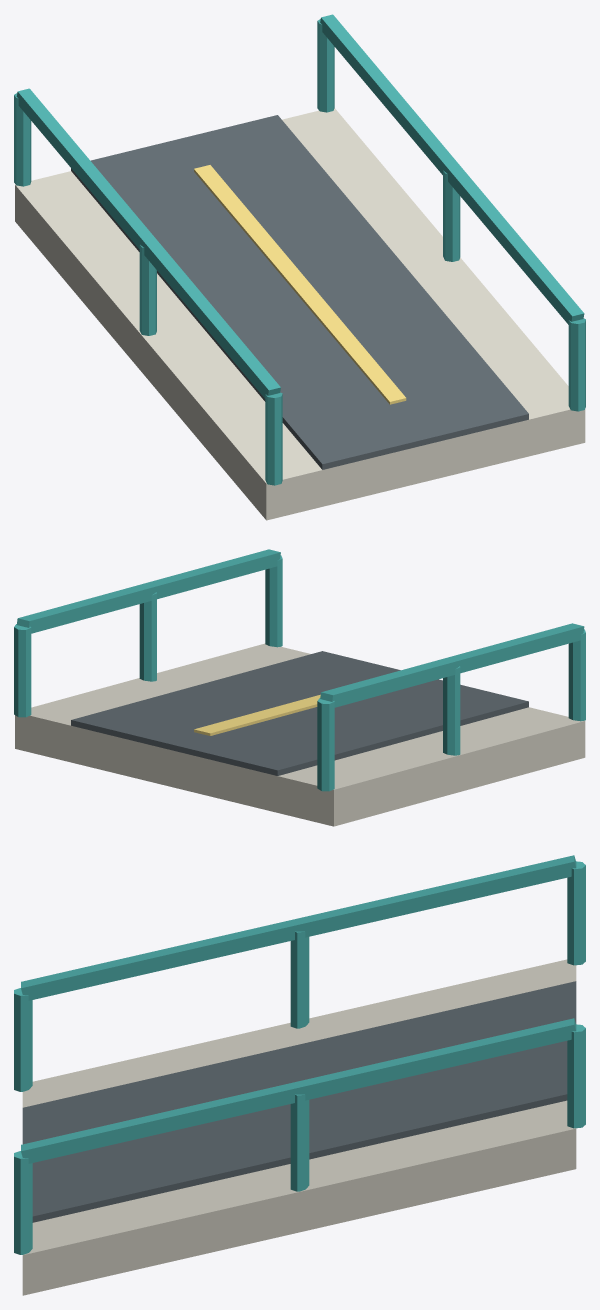
File: BRG_LOCAL_RAMP_1x1_UP_050.glb
3 views of the same model, one above another, from view 1: azimuth 30°, elevation 25°; view 2: azimuth 150°, elevation 25°; view 3: azimuth 270°, elevation 25° (orthographic). The views are drawn at different scales.
Parts seen in each view (by area): view 1: BRG_LOCAL_RAMP_1x1_UP_050_Visual; view 2: BRG_LOCAL_RAMP_1x1_UP_050_Visual; view 3: BRG_LOCAL_RAMP_1x1_UP_050_Visual.
Part boxes in pixels (box(x1,y1,x2,y2)): BRG_LOCAL_RAMP_1x1_UP_050_Visual: box(14, 14, 585, 520); BRG_LOCAL_RAMP_1x1_UP_050_Visual: box(14, 549, 585, 826); BRG_LOCAL_RAMP_1x1_UP_050_Visual: box(14, 855, 585, 1295).
Size of what is drawn, in the model's own units: 1.45 by 1.07 by 2.05.
